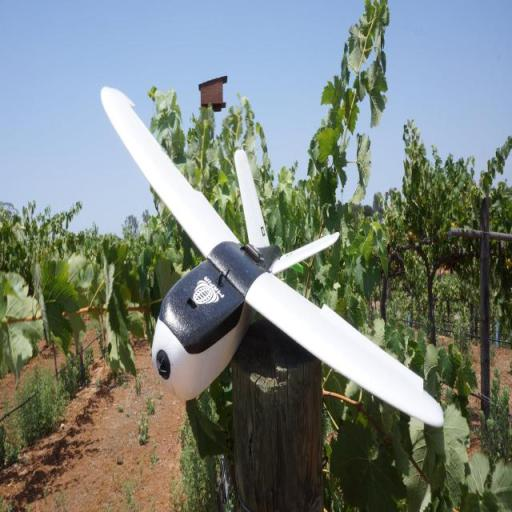uav: (96, 79, 445, 430)
